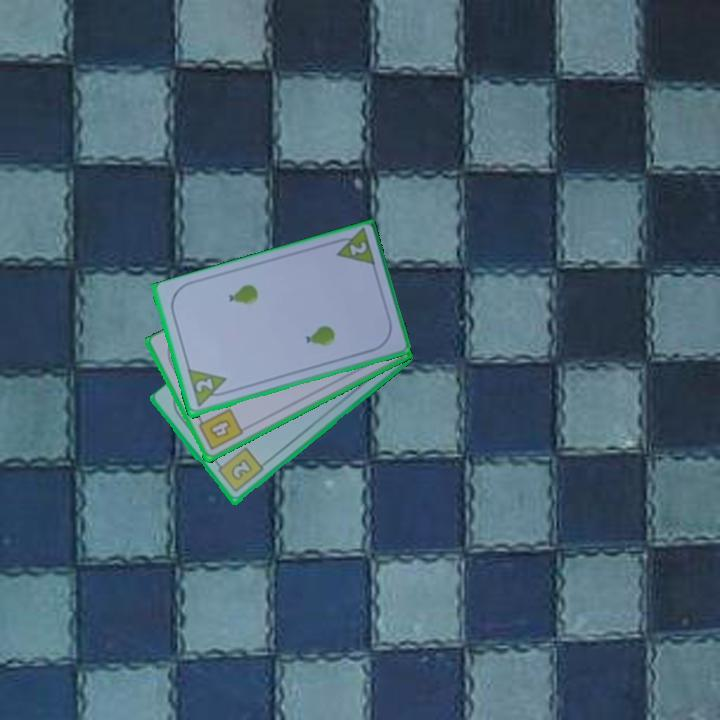2b: (212, 444, 266, 495)
2p: (328, 226, 378, 270), (192, 375, 216, 396)
4b: (194, 405, 245, 454)
